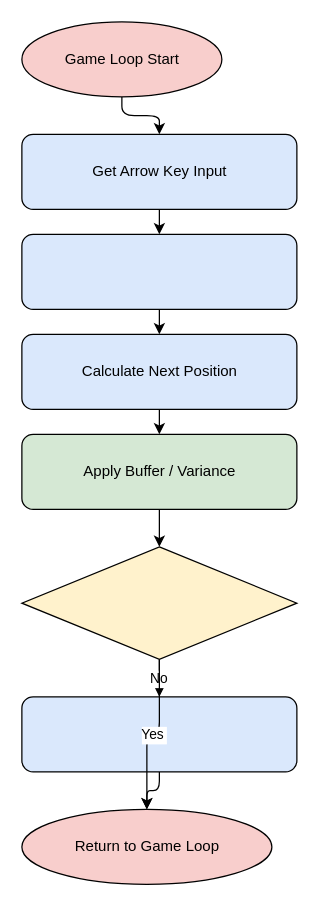
The diagram is 319 pixels wide and 906 high, and some of its shapes have lost their labels. The shapes that lost their labels are listed below. From the top down, each one's centre as x and y in pixels, then its label:
At point 159,271: "Set Direction Variable".
At point 159,602: "Wall at Buffered Position?".
At point 159,734: "Move Pac-Man".
